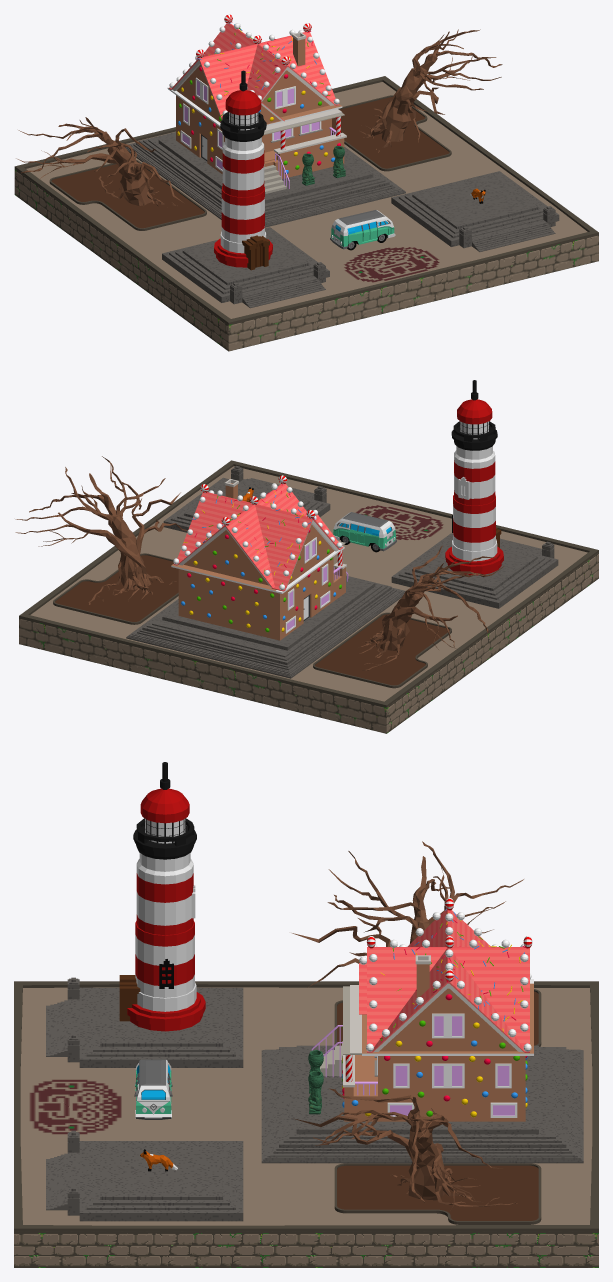
3 views of the same model, one above another, from view 1: azimuth 30°, elevation 25°; view 2: azimuth 150°, elevation 25°; view 3: azimuth 270°, elevation 25° (orthographic). The views are drawn at different scales.
Parts seen in each view (by area): view 1: Cube.011, Cube.1203, OBJRANDOM_LIGHTHOUSE, VEHICLES_VAN; view 2: Cube.011, Cube.1203, OBJRANDOM_LIGHTHOUSE, VEHICLES_VAN; view 3: Cube.011, Cube.1203, OBJRANDOM_LIGHTHOUSE, VEHICLES_VAN.
Boxes of the visible parts, bbox=[...] form: Cube.011: bbox=[14, 29, 598, 351]; Cube.1203: bbox=[167, 14, 346, 193]; OBJRANDOM_LIGHTHOUSE: bbox=[214, 70, 272, 270]; VEHICLES_VAN: bbox=[330, 210, 395, 250]; Cube.011: bbox=[15, 456, 598, 733]; Cube.1203: bbox=[171, 475, 348, 640]; OBJRANDOM_LIGHTHOUSE: bbox=[445, 380, 503, 575]; VEHICLES_VAN: bbox=[333, 512, 396, 552]; Cube.011: bbox=[14, 841, 598, 1267]; Cube.1203: bbox=[311, 898, 533, 1121]; OBJRANDOM_LIGHTHOUSE: bbox=[119, 762, 205, 1031]; VEHICLES_VAN: bbox=[134, 1059, 172, 1119].
Size of the model in its own units: 5099 by 2383 by 4000.
45 materials, 6 textured.
